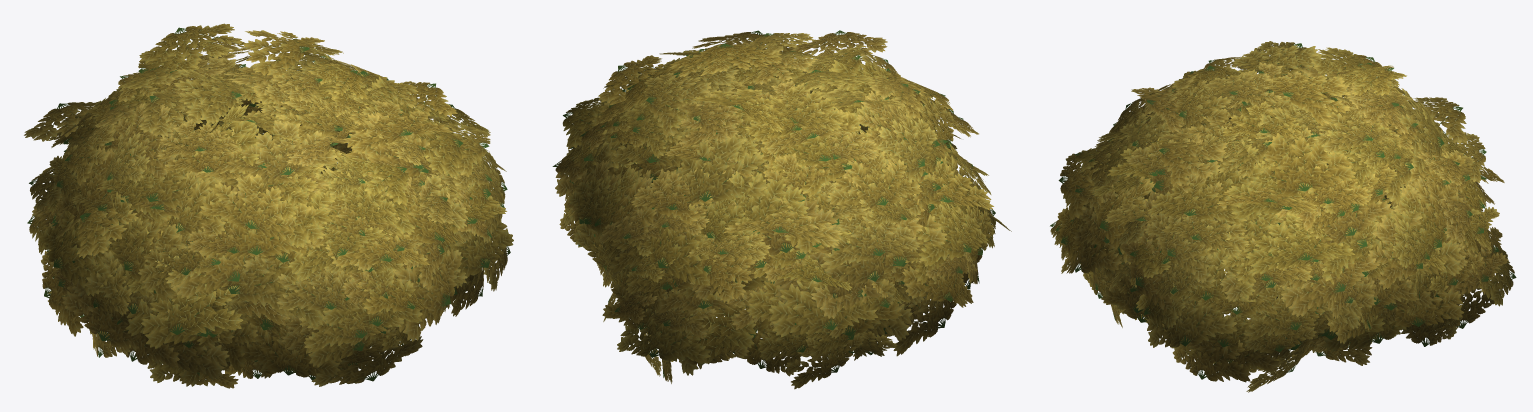
File: bush_c.glb
3 renders of one model, left to right at view 1: azimuth 30°, elevation 25°; view 2: azimuth 150°, elevation 25°; view 3: azimuth 270°, elevation 25°, orthographic. The views are drawn at different scales.
Visible parts, largest first — view 1: leaves; view 2: leaves; view 3: leaves.
Boxes of the visible parts, x1,y1,x2,y2 form: leaves: (24, 23, 513, 388); leaves: (552, 30, 1011, 389); leaves: (1050, 41, 1516, 392).
Size of the model in its own units: 2.37 by 1.53 by 2.42.
2 materials, 2 textured.
